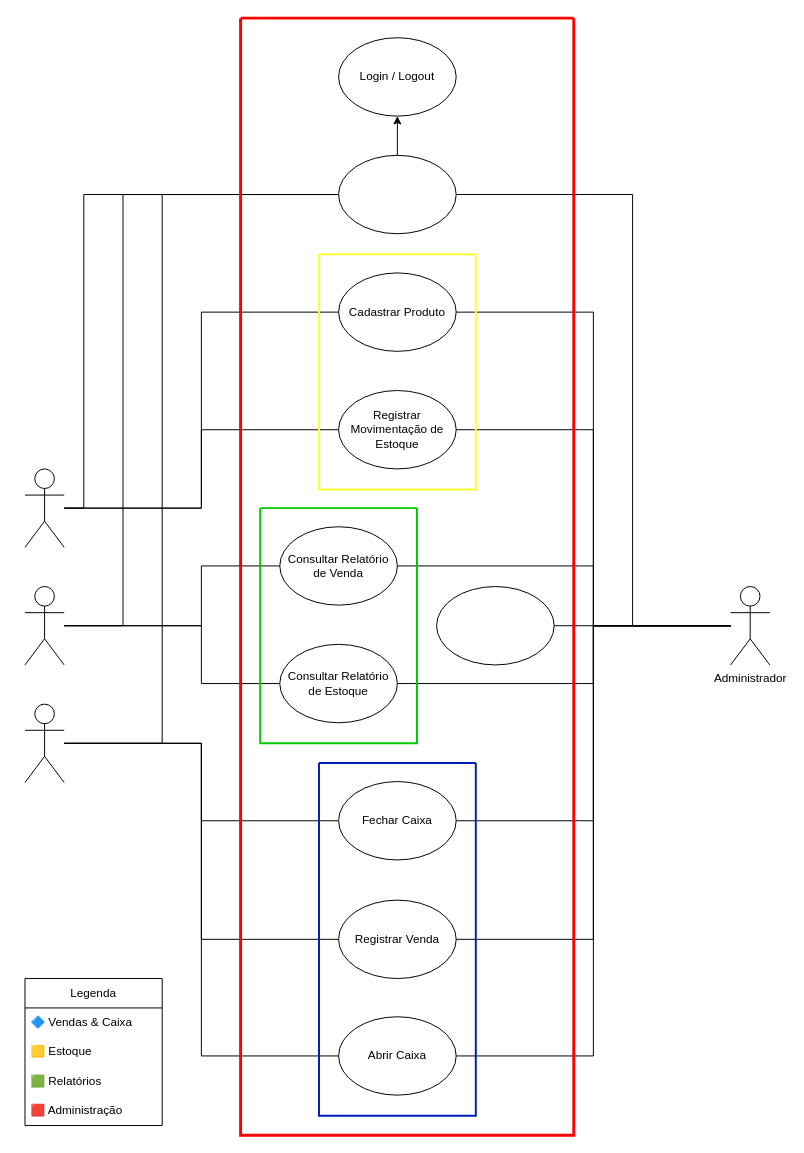
The diagram is 804 pixels wide and 1153 high, and some of its shapes have lost their labels. The shapes that lost their labels are listed below. From the top down, each one's box as (x1, y1, x2, y2) in pixels, then its label:
(338, 154, 456, 234): Usuário do Sistema
(24, 468, 64, 547): Estoquista
(24, 586, 64, 665): Gerente
(436, 586, 554, 665): Gerenciar Usuarios
(24, 703, 64, 783): Operador
